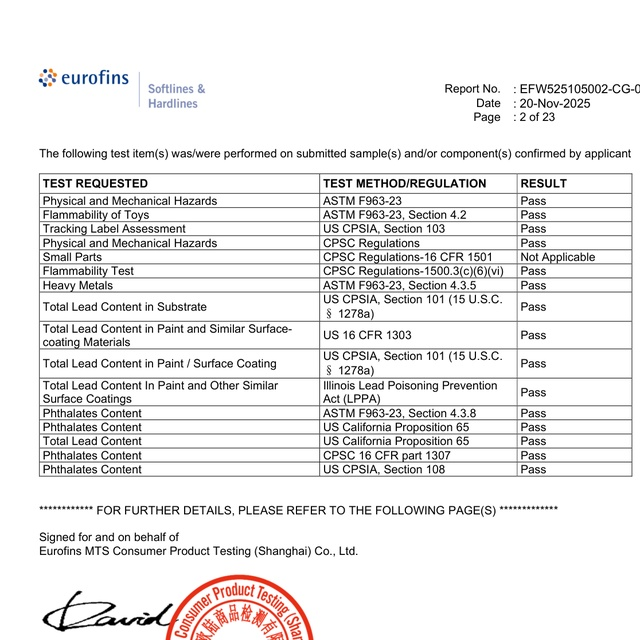eurofins: (36, 64, 133, 92)
